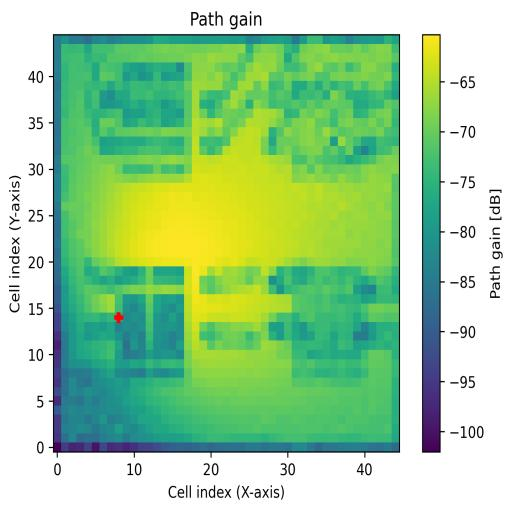Concrete: (293, 57, 376, 165)
Glass: (123, 63, 192, 174)
Metal: (292, 268, 369, 377)
Wood: (115, 267, 185, 378)
